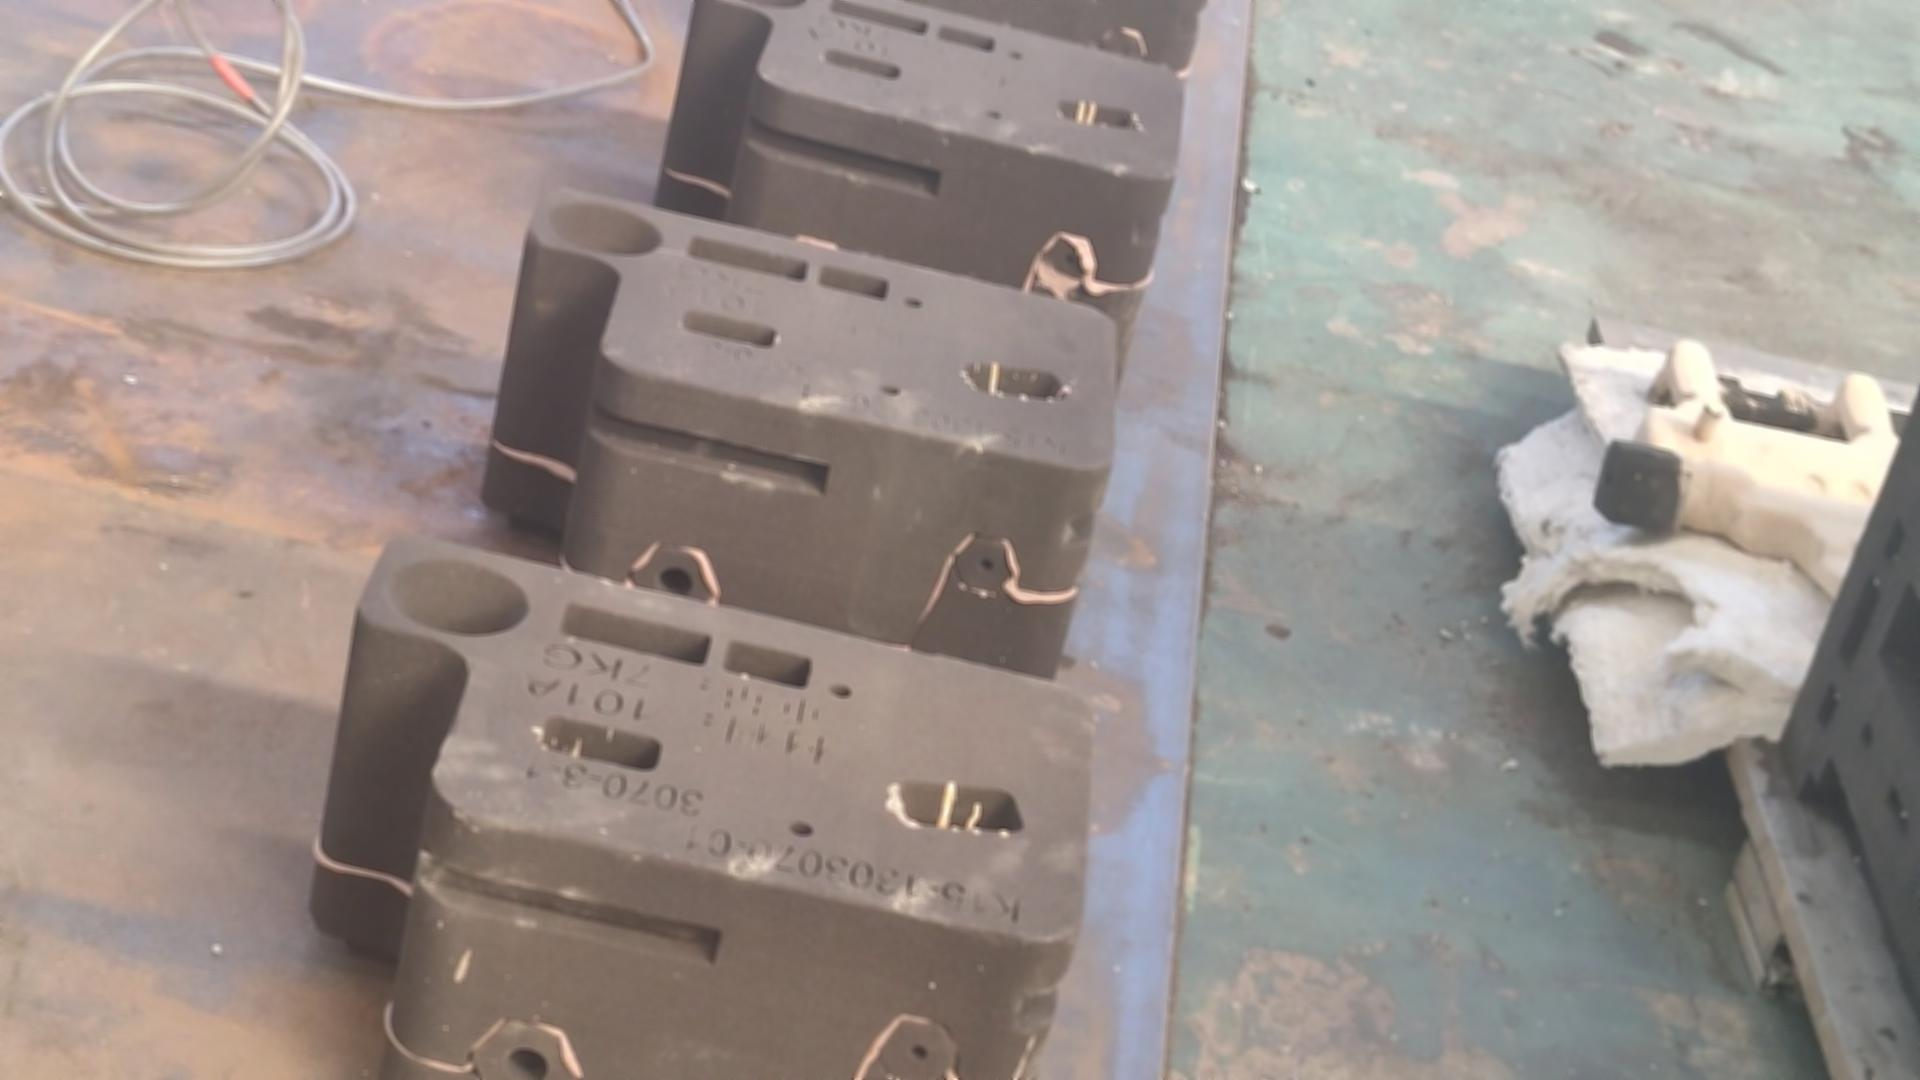pouring hole: (385, 559, 531, 638), (547, 200, 663, 255), (736, 1, 807, 9)
